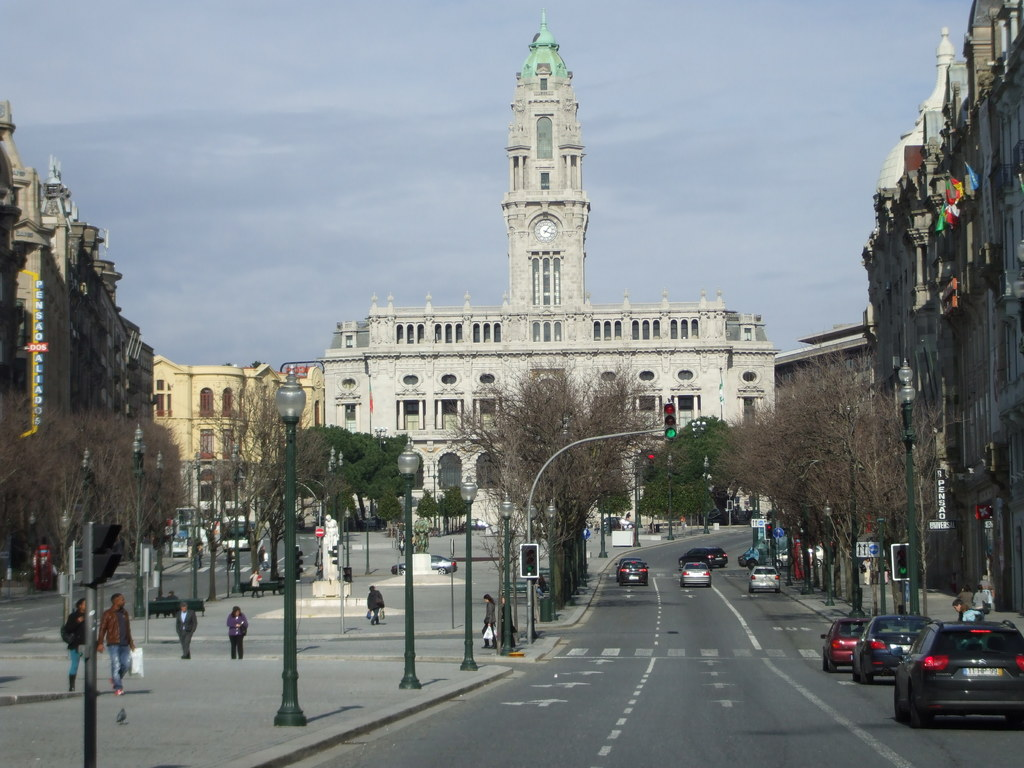Car: (895, 622, 1020, 737), (860, 616, 927, 676), (820, 622, 870, 676), (392, 556, 463, 574), (748, 566, 780, 593), (682, 561, 714, 587), (619, 561, 648, 582), (684, 549, 727, 562)
